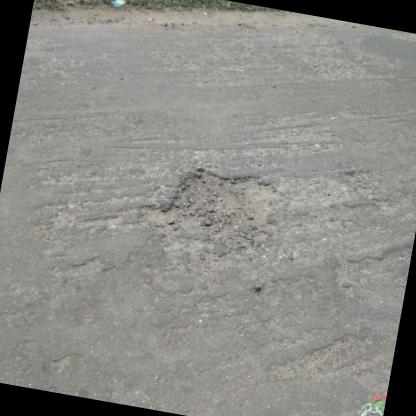pothole: (139, 152, 289, 254)
